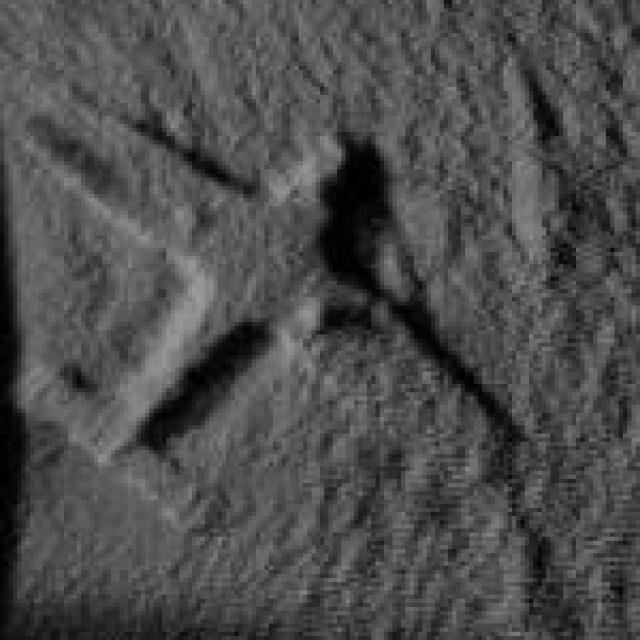plane: (17, 74, 414, 533)
